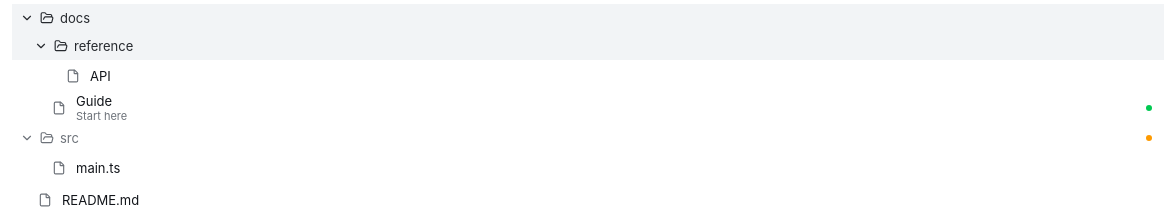
FileTree › collapses a folder without selecting an implicit folder node
Step 1. Click the button "docs" → (75, 18), box [12,4,1164,32]
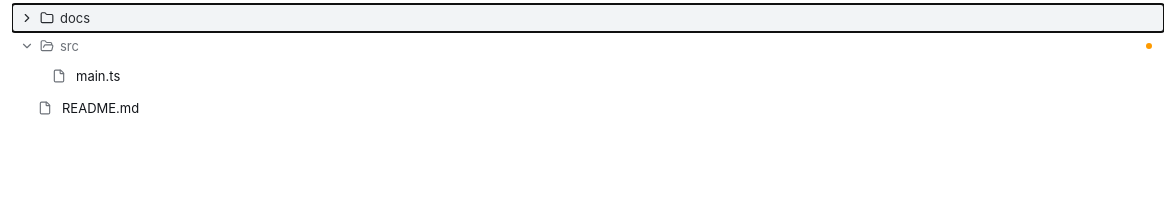
Now the button "Guide" is gone
